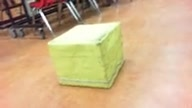cube: (47, 21, 124, 89)
